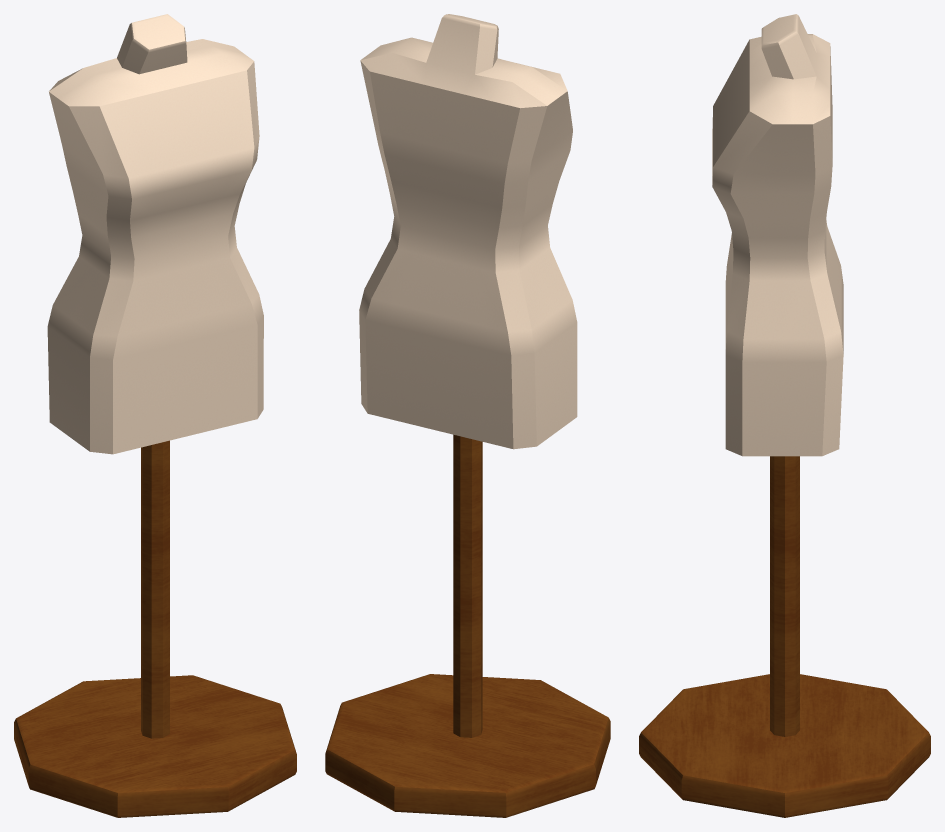
The model's file is dressForm.fbx.
The picture shows the model from 3 angles, left to right: view 1: azimuth 30°, elevation 25°; view 2: azimuth 150°, elevation 25°; view 3: azimuth 270°, elevation 25°; orthographic projection.
Parts seen in each view (by area): view 1: dressForm; view 2: dressForm; view 3: dressForm.
Boxes of the visible parts, x1,y1,x2,y2 form: dressForm: (14,14,296,817); dressForm: (325,14,610,817); dressForm: (639,14,930,817).
Bounding box in the file's own units: 15.25 × 42.42 × 15.25.
